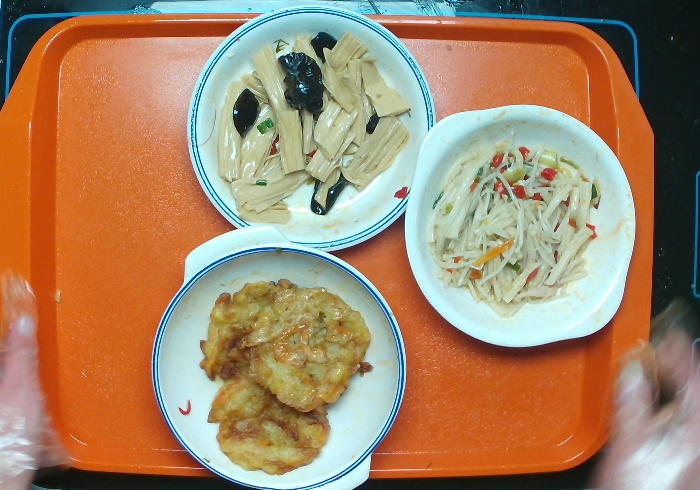HZYJPL-Dai_Er_Bai_Yuan_Wan: (401, 101, 638, 350)
HZYJPL-Lan_Bian_Dai_Er_Wan: (150, 223, 408, 490)
HZYJPL-Lan_Bian_Yuan_Die: (185, 6, 436, 252)
